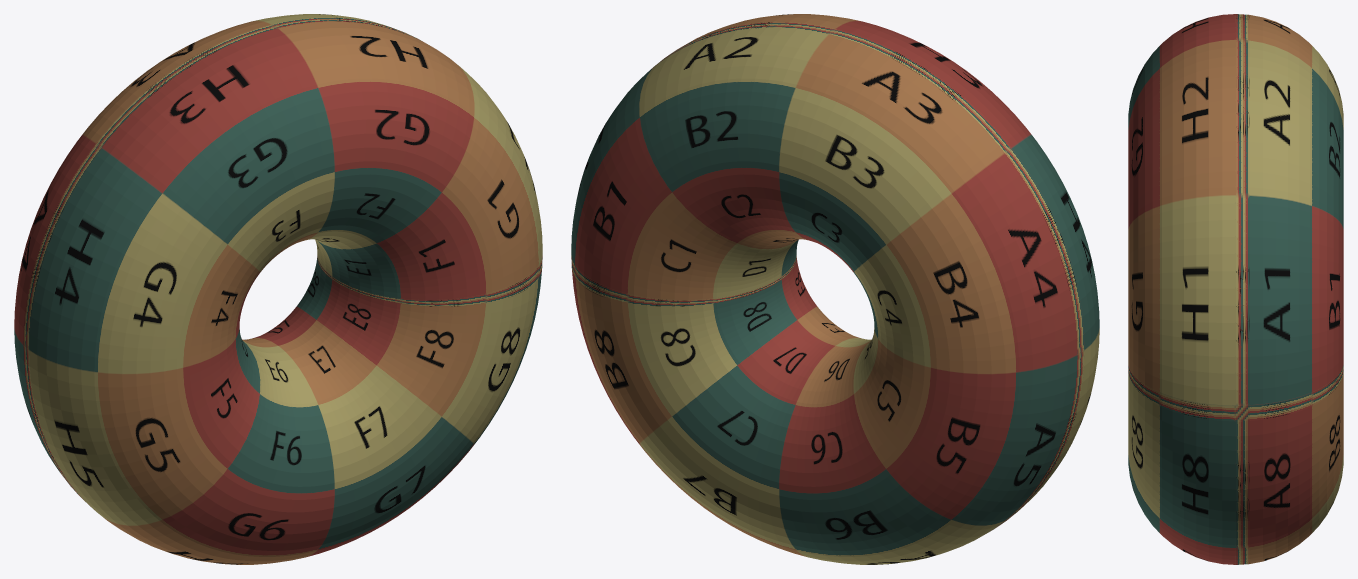
The model's file is texture_torus_R0_r5.glb.
3 renders of one model, left to right at view 1: azimuth 30°, elevation 25°; view 2: azimuth 150°, elevation 25°; view 3: azimuth 270°, elevation 25°, orthographic. The views are drawn at different scales.
Visible parts, largest first — view 1: world; view 2: world; view 3: world.
Boxes of the visible parts, box(x1,y1,x2,y2) form: world: box(14, 14, 542, 564); world: box(571, 14, 1099, 564); world: box(1128, 14, 1343, 564).
Size of the model in its own units: 16.44 by 16.44 by 6.43.
1 material, 1 textured.
